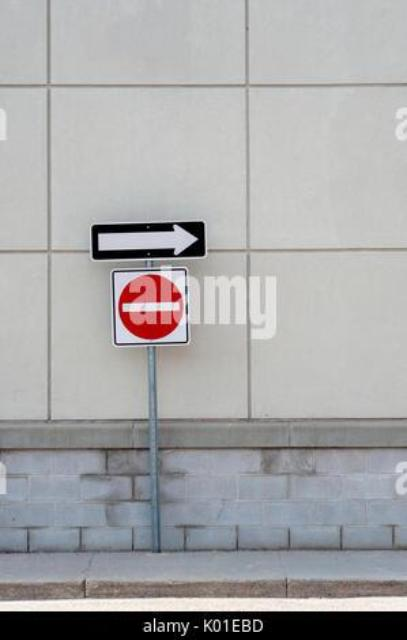B2: (109, 266, 189, 346)
